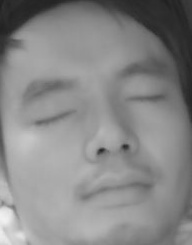blink: (127, 88, 165, 110), (34, 108, 77, 127)
mouth: (76, 170, 154, 210)
